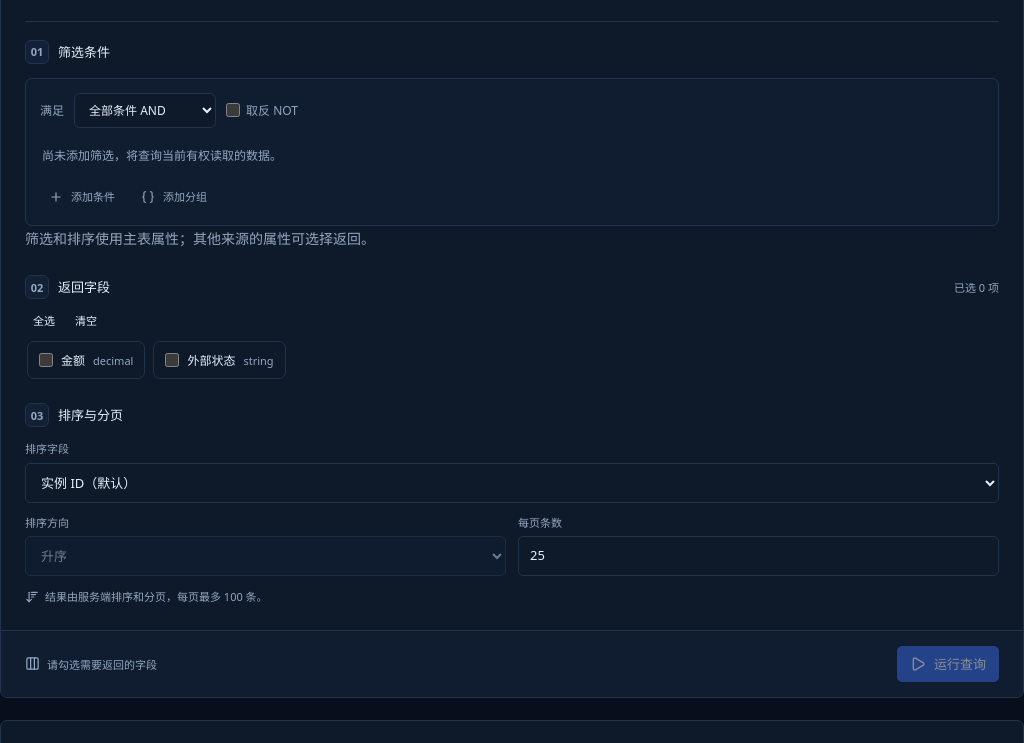
query request lifecycle › 映射对象可投影其他来源字段，仅主表属性可筛选排序，实例详情不提供写入入口
(page scrolled)
Step 1. Click the checkbox labelled "外部状态" → (172, 360), box top-left (165, 354), bottom-right (179, 368)
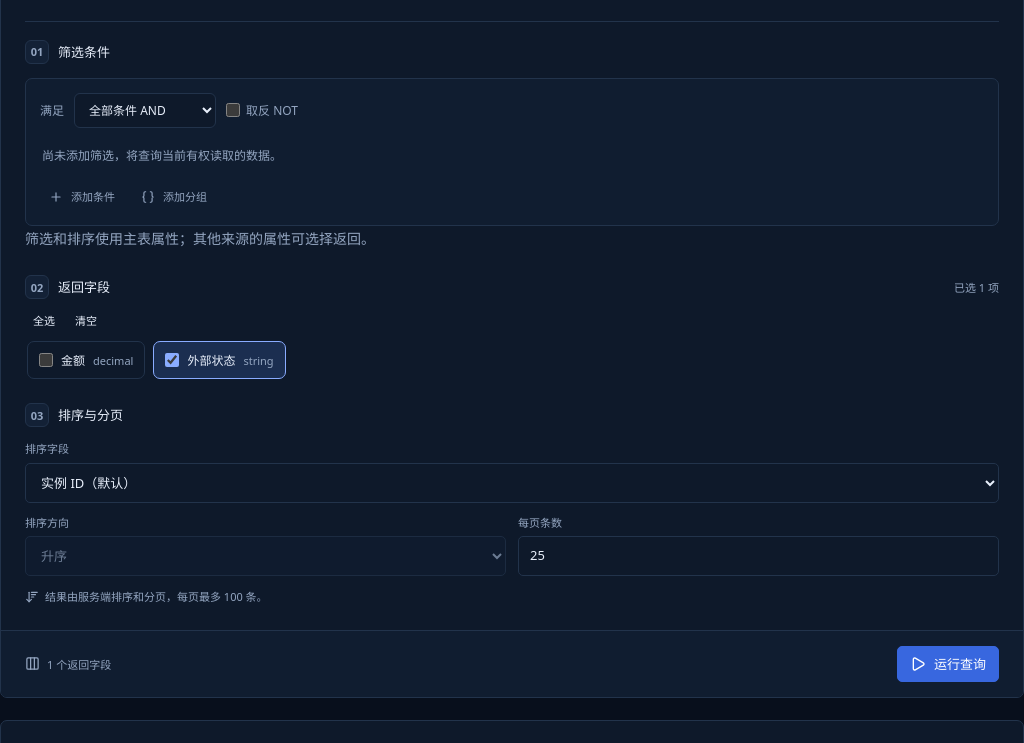
Step 2. Click the button "运行查询" → (948, 664), box top-left (897, 646), bottom-right (999, 682)
(page scrolled)
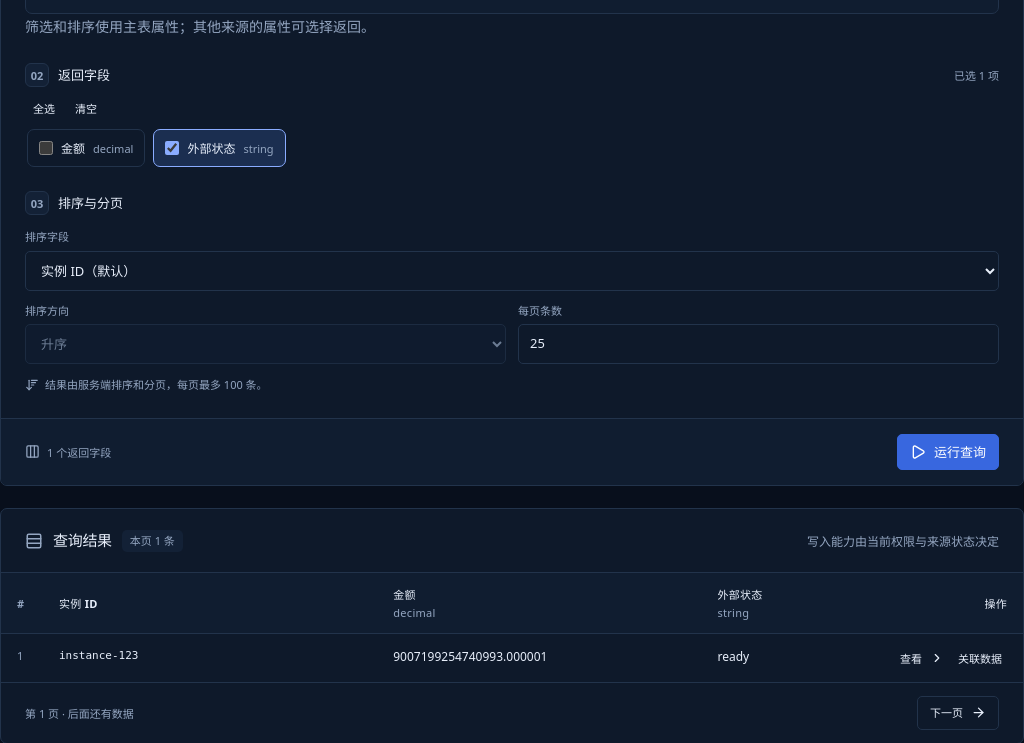
Now the text "ready" is shown, box top-left (717, 648), bottom-right (749, 665)
Step 3. Click the button "查看" → (922, 658), box top-left (895, 647), bottom-right (949, 669)
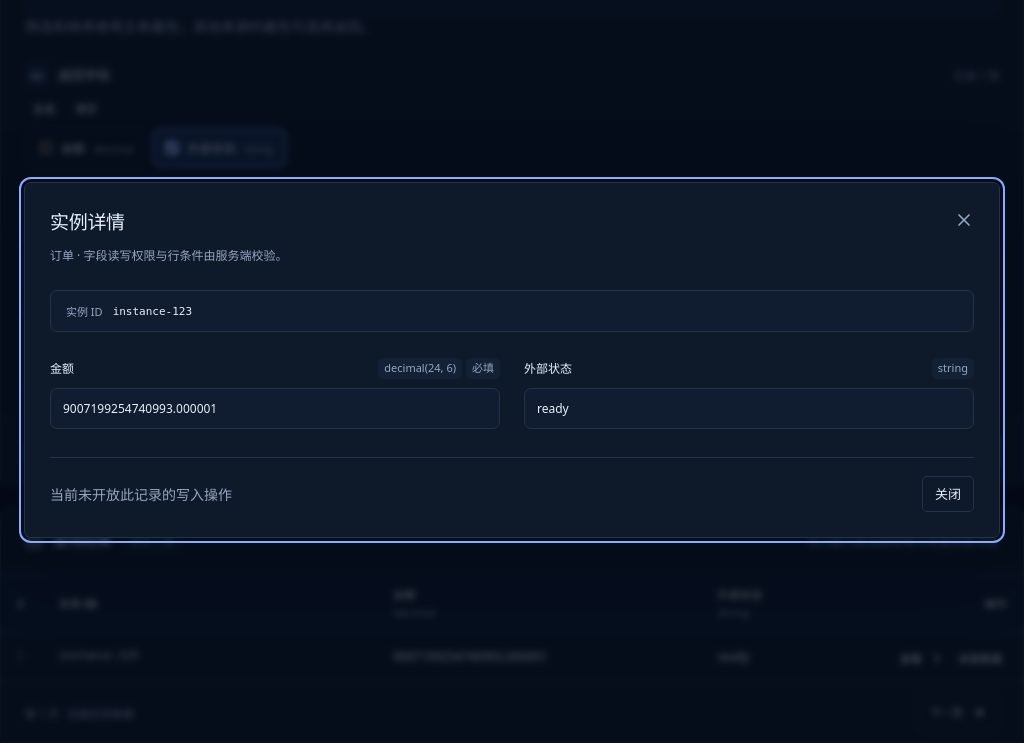
Now the text "ready" is shown, box top-left (524, 388), bottom-right (974, 429)
